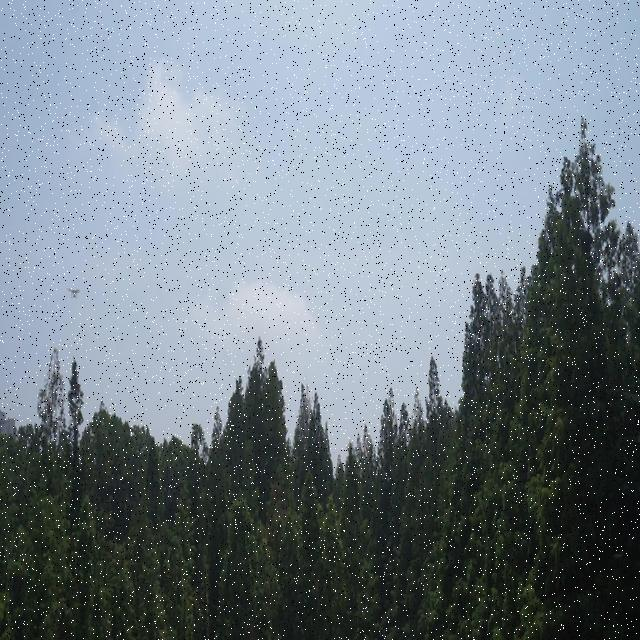UAV: (66, 288, 81, 299)
